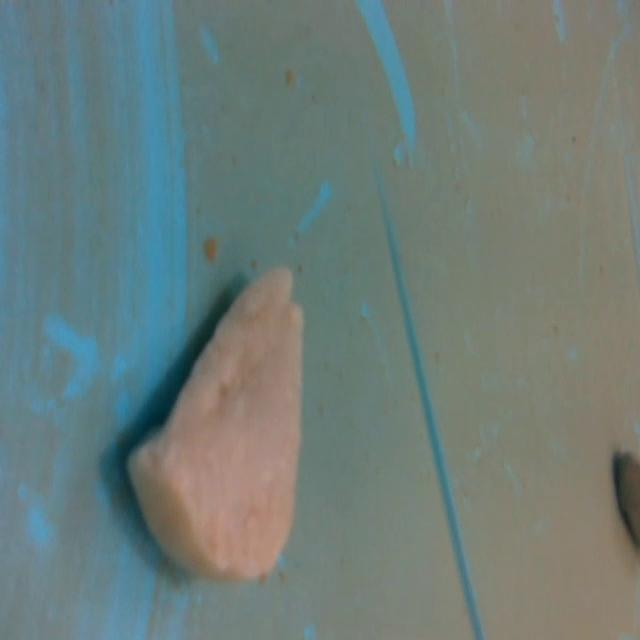rock: (122, 260, 313, 594)
